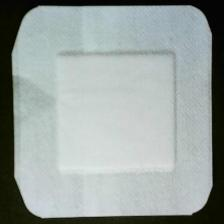Dressing: (11, 6, 214, 221)
